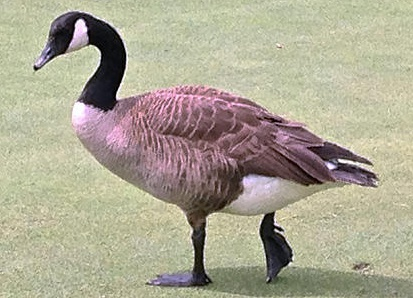goose: (27, 8, 399, 292)
